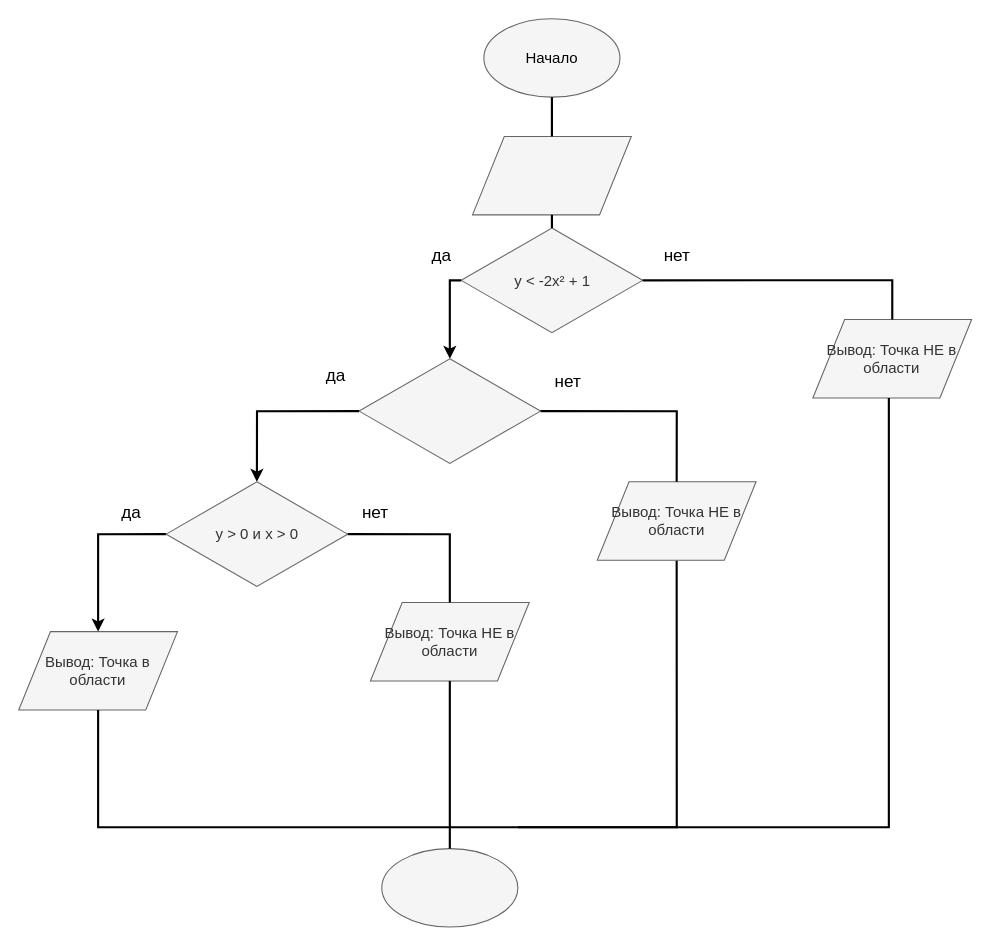
The diagram is 991 pixels wide and 946 high, and some of its shapes have lost their labels. The shapes that lost their labels are listed below. From the top down, each one's centre as x and y in pixels, then its label:
the point at 551,175: Ввод: x, y
the point at 449,410: y < x
the point at 449,887: Конец
